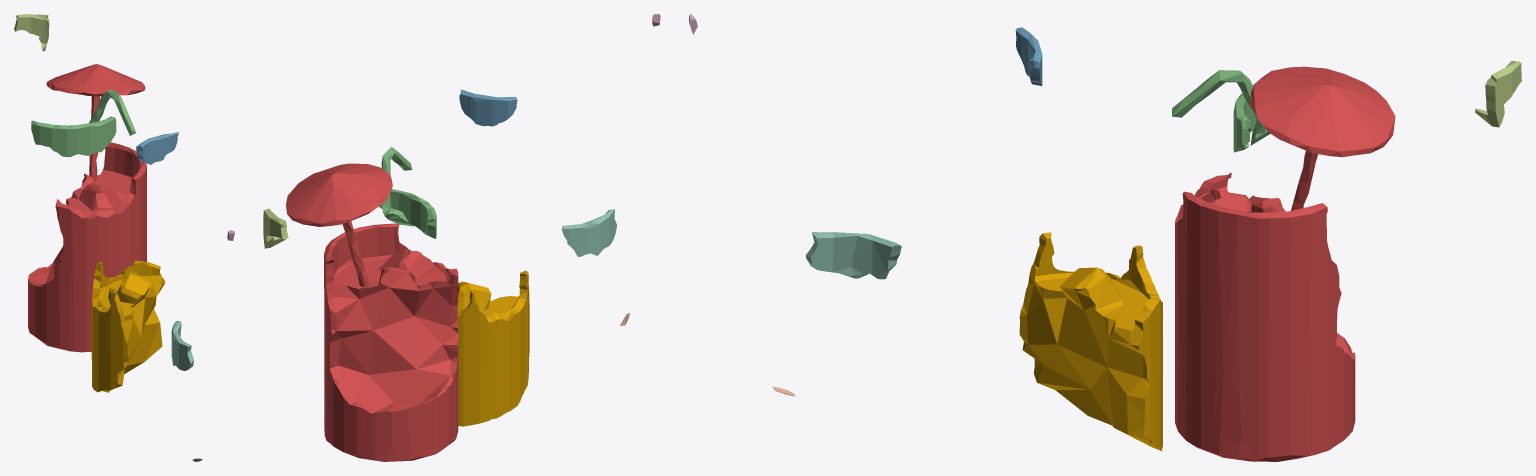
Rendered from mode_15_8pcs_transformed.glb.
3 views of the same model, side by side, from view 1: azimuth 30°, elevation 25°; view 2: azimuth 150°, elevation 25°; view 3: azimuth 270°, elevation 25° (orthographic). The views are drawn at different scales.
Visible parts, largest first — view 1: piece_1.obj, piece_0.obj, piece_3.obj, piece_2.obj, piece_5.obj, piece_4.obj; view 2: piece_1.obj, piece_0.obj, piece_3.obj, piece_4.obj, piece_2.obj, piece_5.obj; view 3: piece_1.obj, piece_0.obj, piece_4.obj, piece_3.obj, piece_5.obj, piece_2.obj.
Part boxes in pixels (<box>): piece_1.obj: <box>28,64,146,352</box>; piece_0.obj: <box>91,260,165,392</box>; piece_3.obj: <box>31,89,136,157</box>; piece_2.obj: <box>136,132,179,164</box>; piece_5.obj: <box>14,14,49,51</box>; piece_4.obj: <box>171,321,193,370</box>; piece_1.obj: <box>286,163,458,461</box>; piece_0.obj: <box>457,270,529,426</box>; piece_3.obj: <box>379,147,436,238</box>; piece_4.obj: <box>561,209,616,256</box>; piece_2.obj: <box>459,89,517,126</box>; piece_5.obj: <box>263,208,288,248</box>; piece_1.obj: <box>1175,66,1395,461</box>; piece_0.obj: <box>1019,232,1162,450</box>; piece_4.obj: <box>805,232,901,279</box>; piece_3.obj: <box>1172,70,1270,152</box>; piece_5.obj: <box>1475,60,1521,127</box>; piece_2.obj: <box>1015,27,1042,85</box>.
Bounding box in the file's own units: 0.5255 × 1.11 × 2.08.
